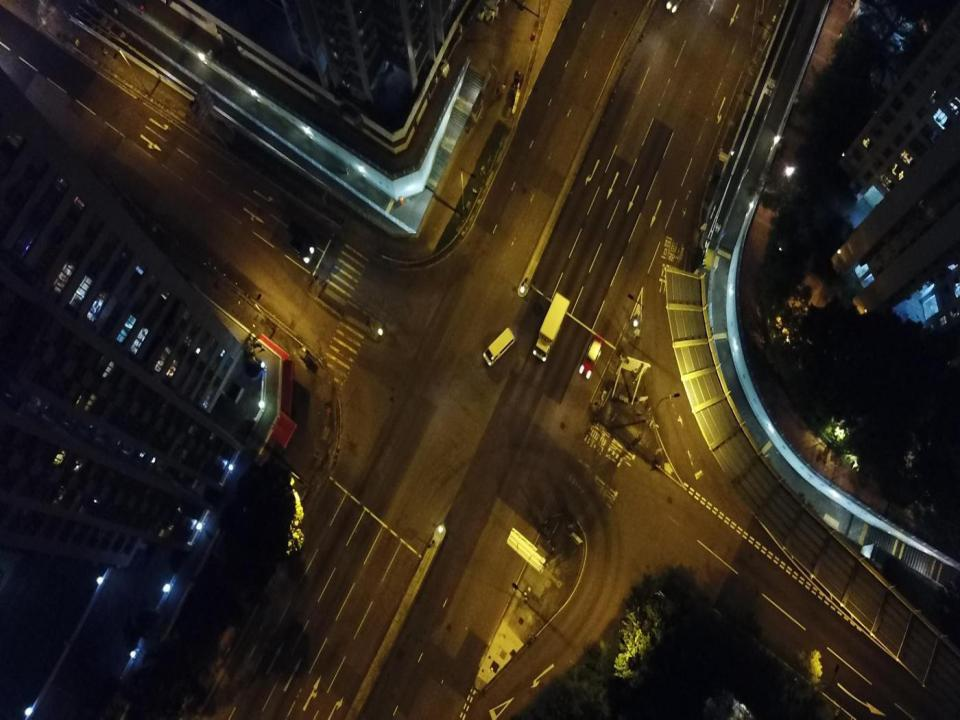car: (281, 230, 315, 265), (579, 334, 605, 378)
truck: (532, 291, 570, 363)
van: (483, 327, 515, 367)
